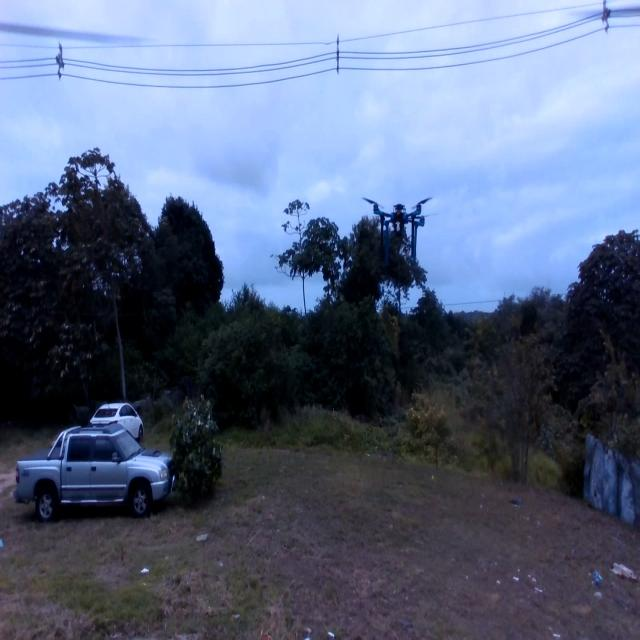-uav-: (356, 185, 439, 270)
